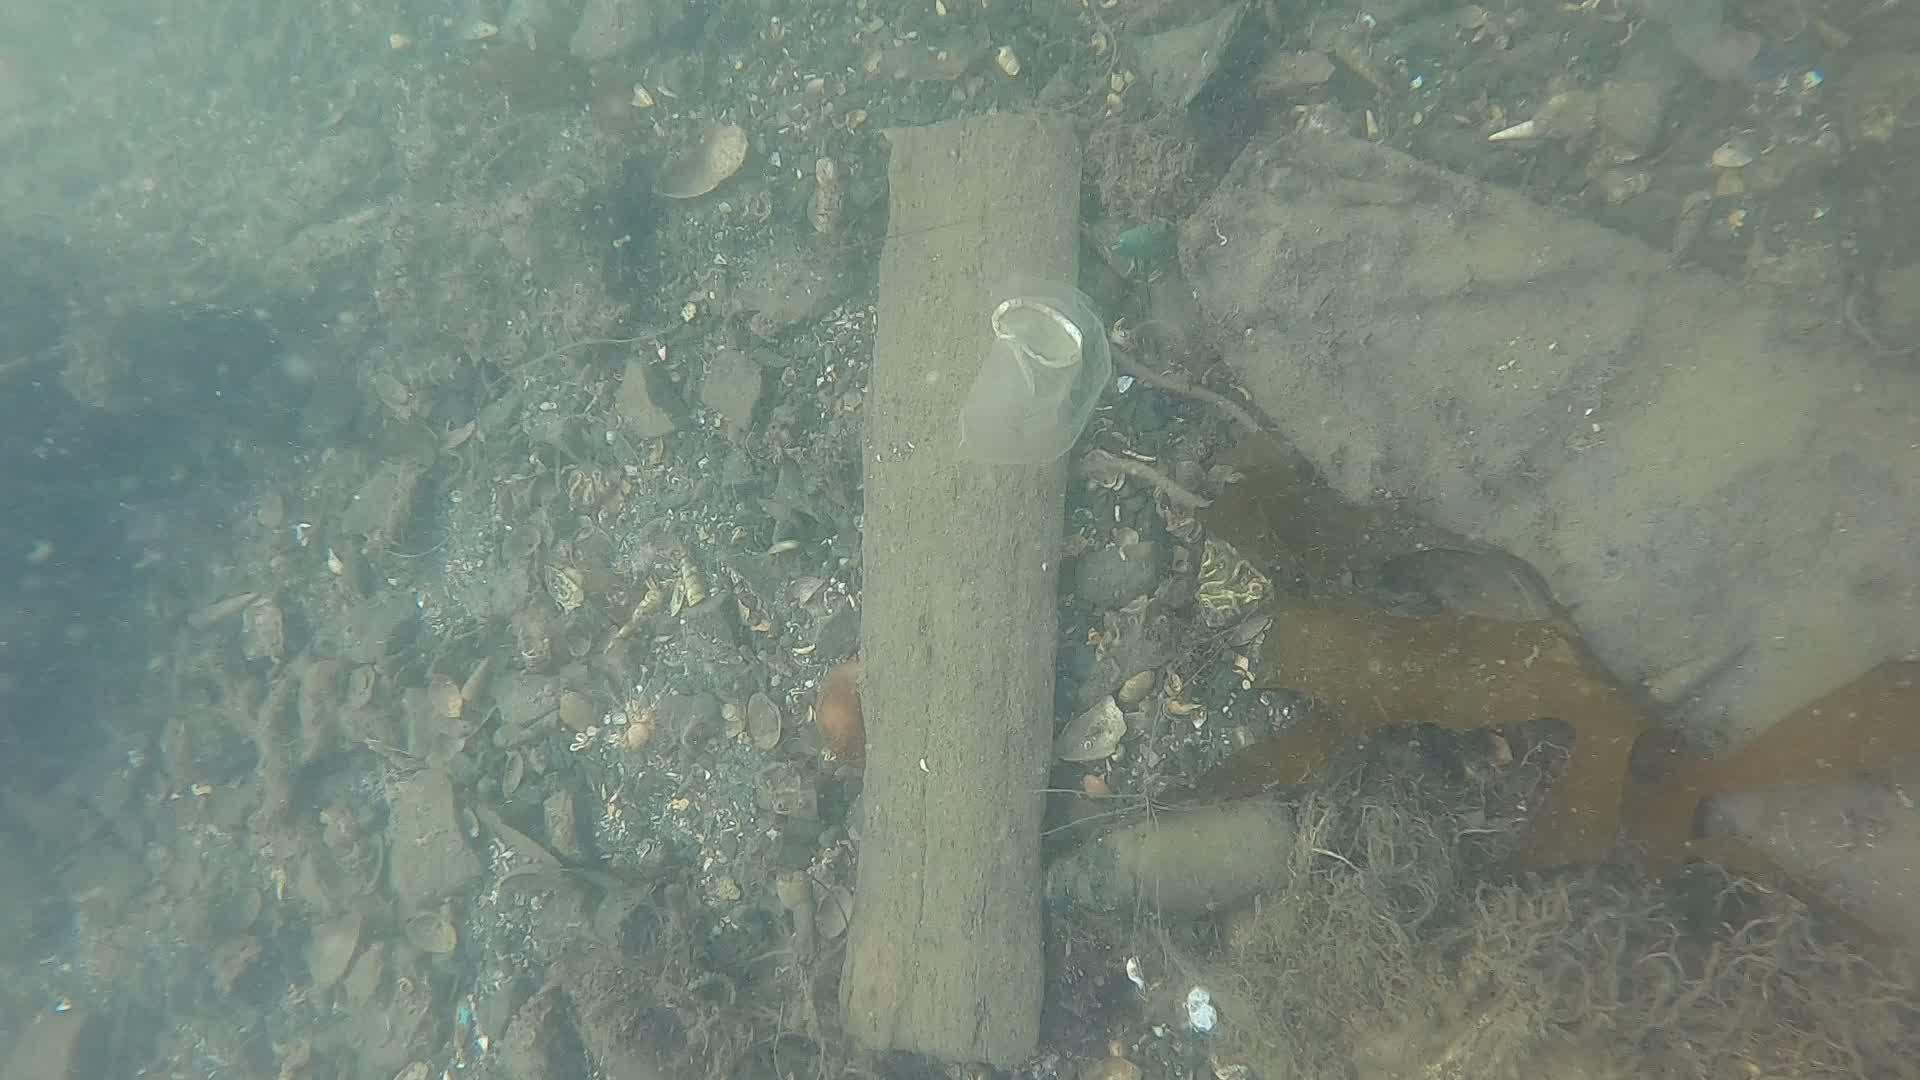wood: (837, 113, 1088, 1067)
